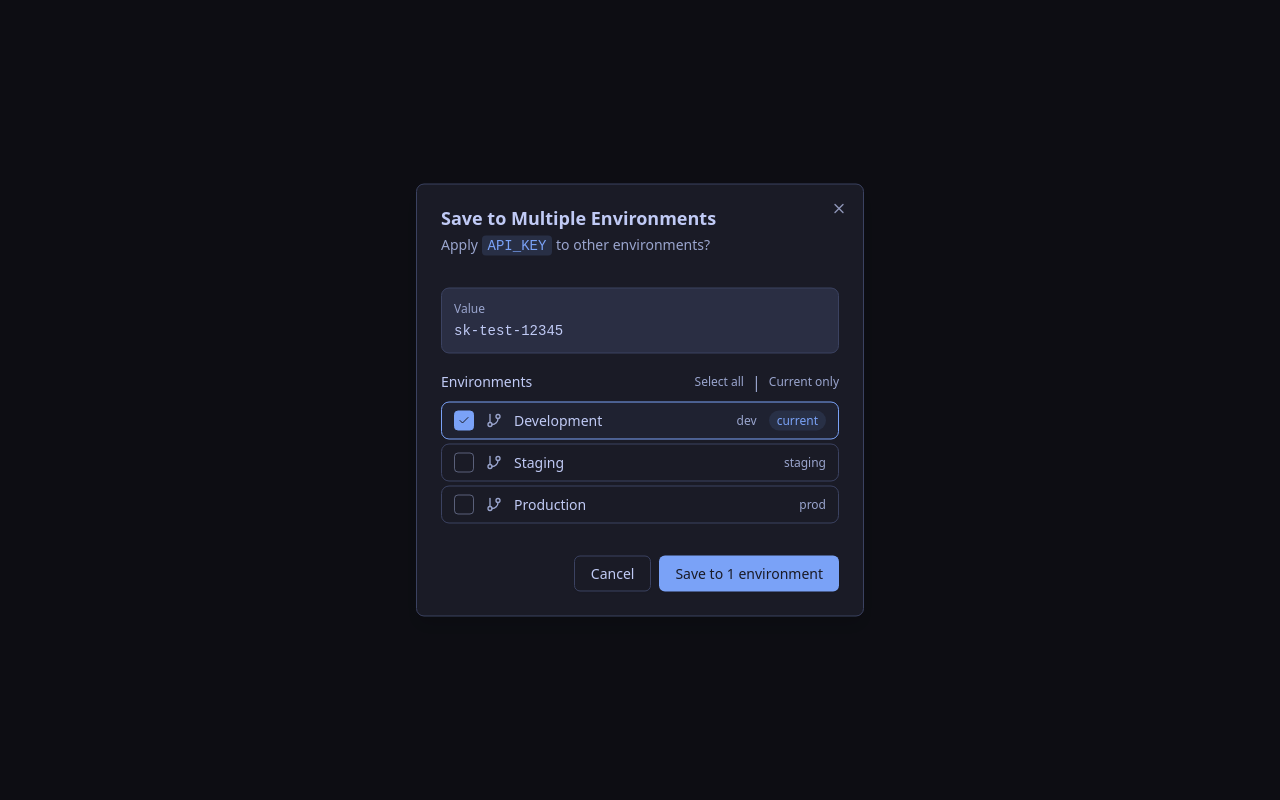
Test case: MultiEnvSaveModal › select all selects all environments
Click the button "Select all": click(719, 382) [695,370,744,394]
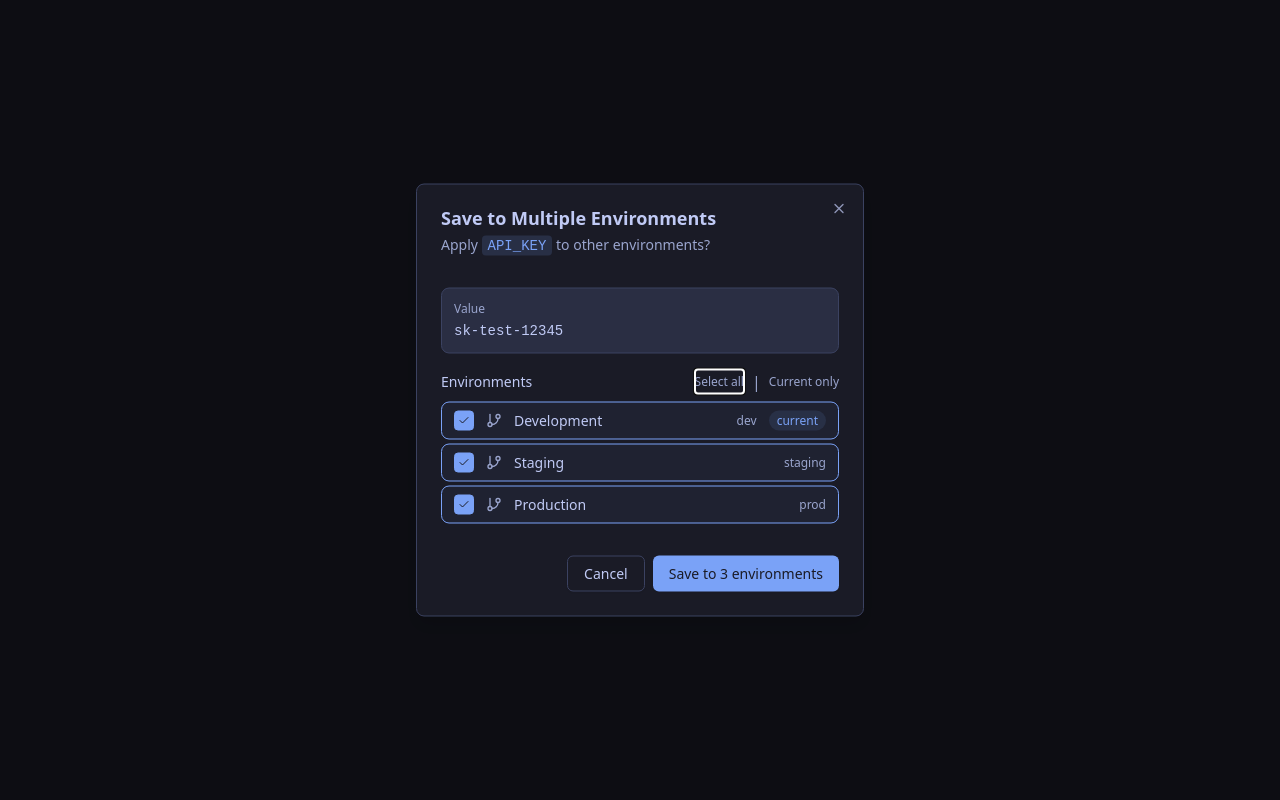
expect the button "Save to 3 environments" is shown: met, box [653,556,839,592]
